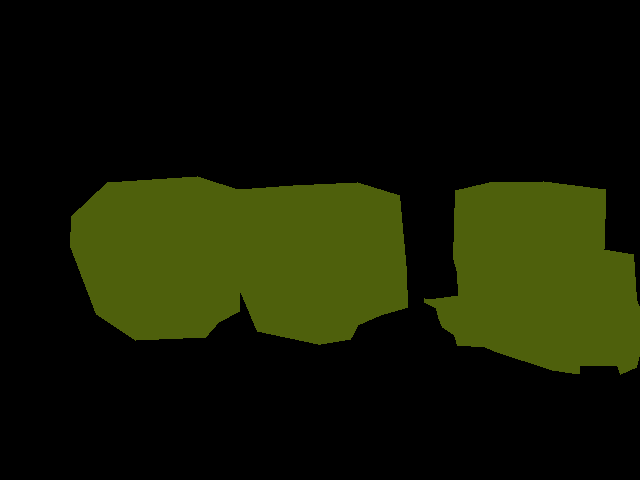Train: (424, 181, 640, 375), (70, 176, 241, 340), (238, 182, 407, 345)
